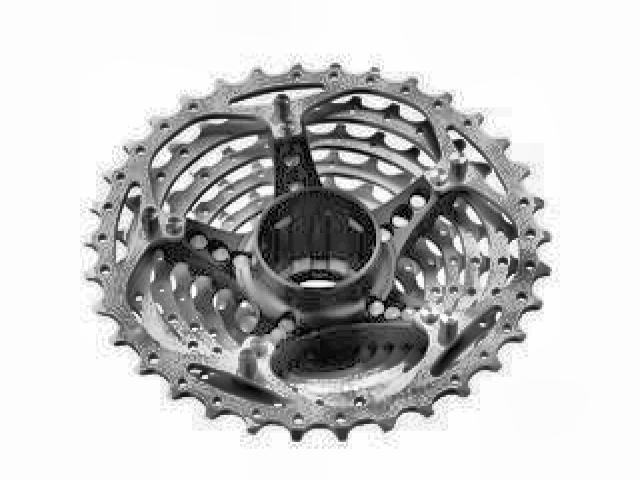cassette: (82, 58, 552, 444)
